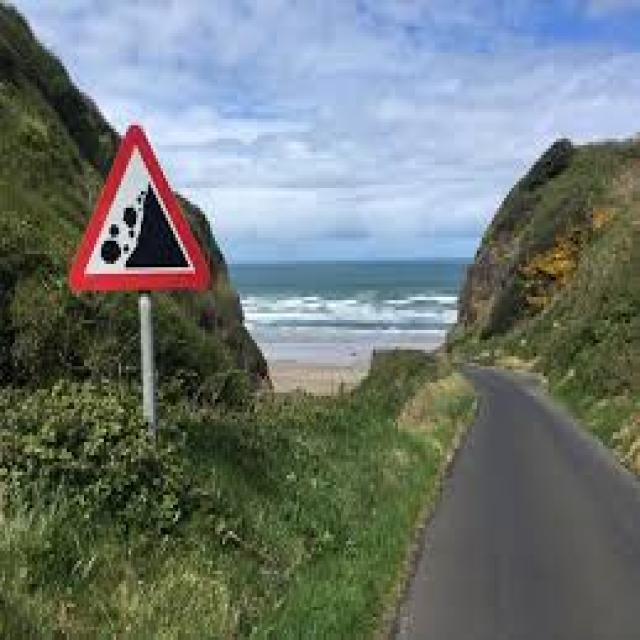falling rocks: (66, 121, 208, 287)
